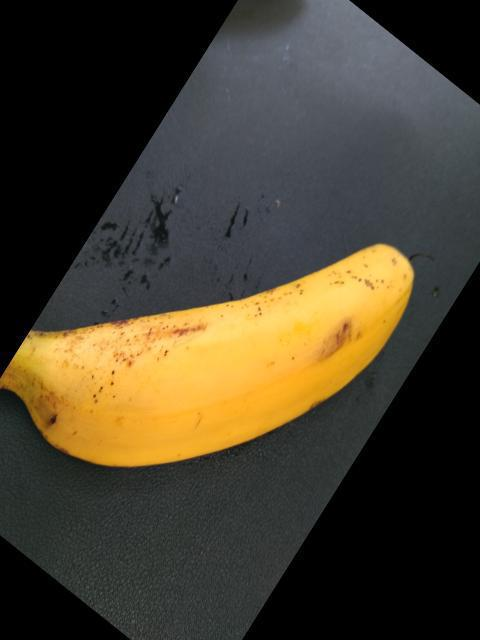ripe: (27, 232, 427, 460)
